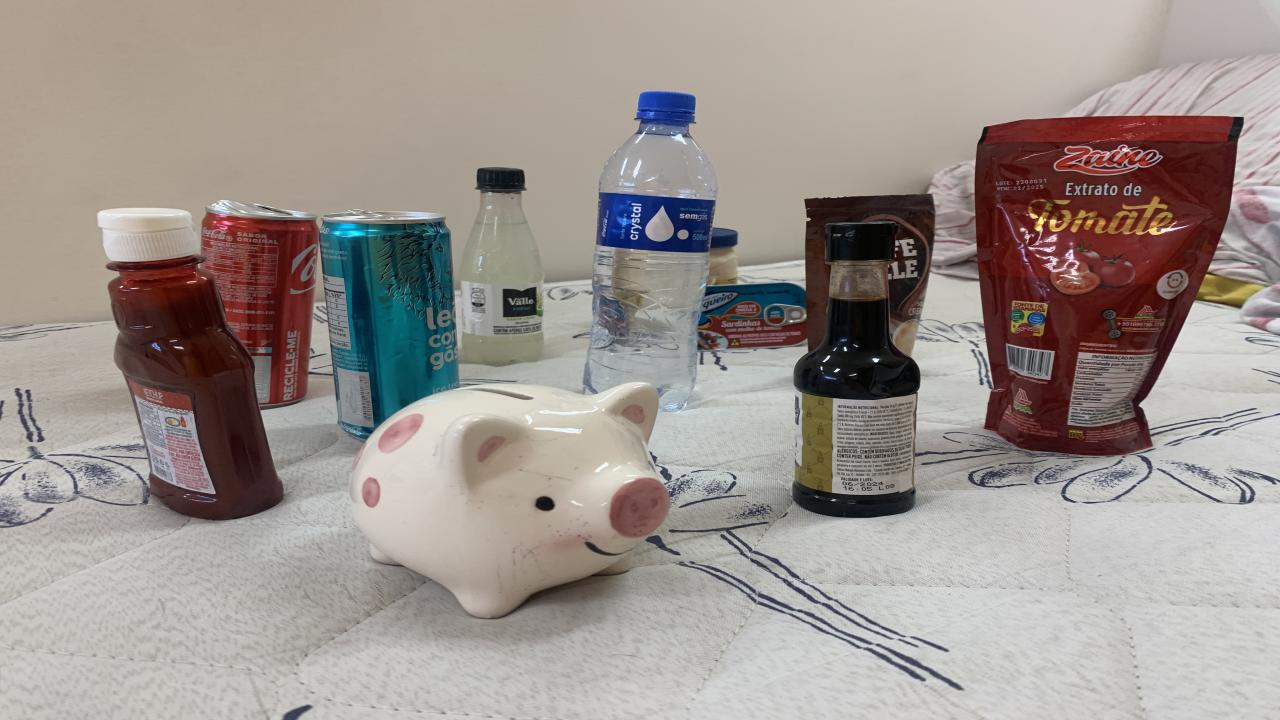Coffee-Pantry_Items: (805, 193, 935, 354)
Coke-Drinks: (200, 201, 318, 409)
English_Sauce-Pantry_Items: (792, 223, 920, 518)
Ketchup-Pantry_Items: (98, 208, 282, 519)
Mayonnaise-Pantry_Items: (708, 227, 738, 285)
Pig_Safe-Miscellaneous: (350, 382, 670, 619)
Soda-Drinks: (460, 167, 542, 366)
Tea-Drinks: (320, 210, 460, 439)
Tomato_Sauce-Pantry_Items: (975, 116, 1240, 456)
Tuna_Can-Pantry_Items: (698, 283, 808, 351)
Water_Bottle-Drinks: (585, 92, 718, 411)
